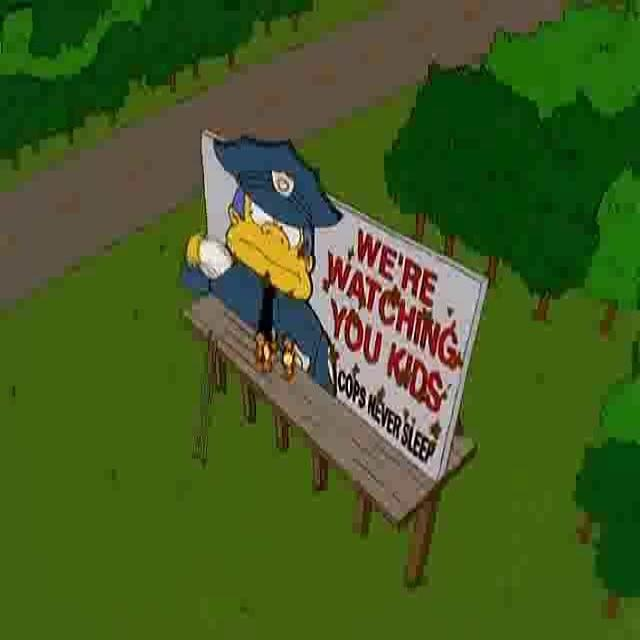Chief Wiggam: (208, 134, 344, 309)
